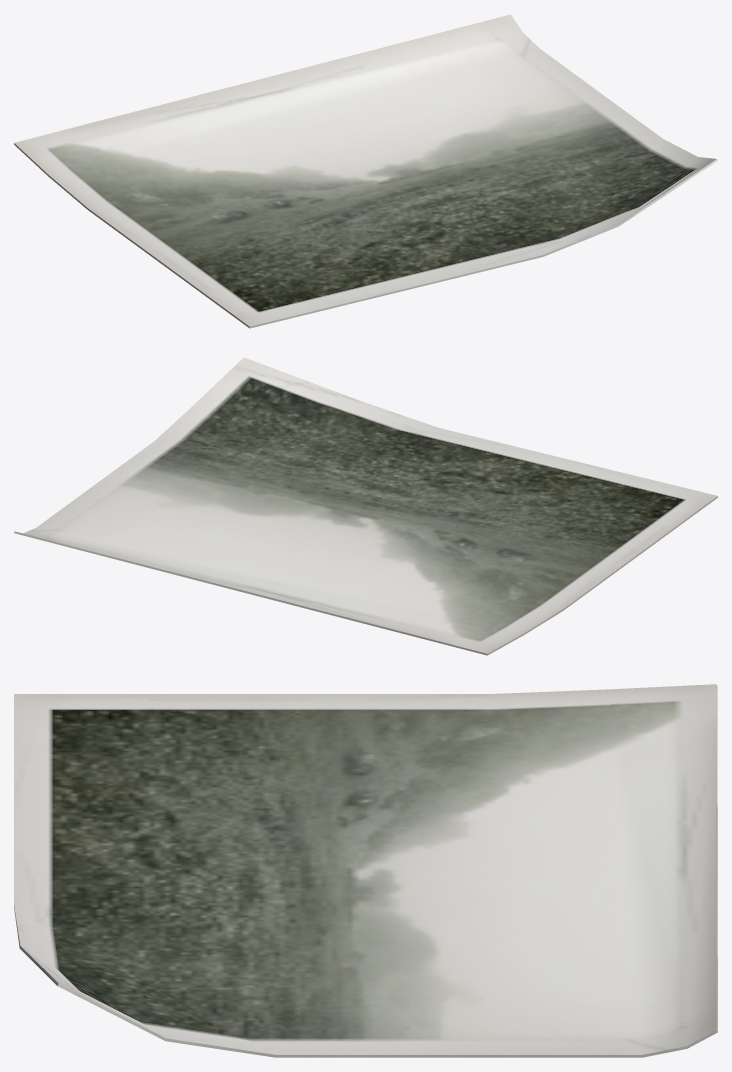
Rendered from Picture_10_Small.FBX.
3 renders of one model, top to bottom at view 1: azimuth 30°, elevation 25°; view 2: azimuth 150°, elevation 25°; view 3: azimuth 270°, elevation 25°, orthographic. The views are drawn at different scales.
Visible parts, largest first — view 1: Picture_10_Small; view 2: Picture_10_Small; view 3: Picture_10_Small.
Part boxes in pixels (x1,y1,x2,y2): Picture_10_Small: [14, 14, 717, 328]; Picture_10_Small: [14, 357, 717, 655]; Picture_10_Small: [14, 684, 717, 1057].
Size of the model in its own units: 28.03 by 2.17 by 23.1.
